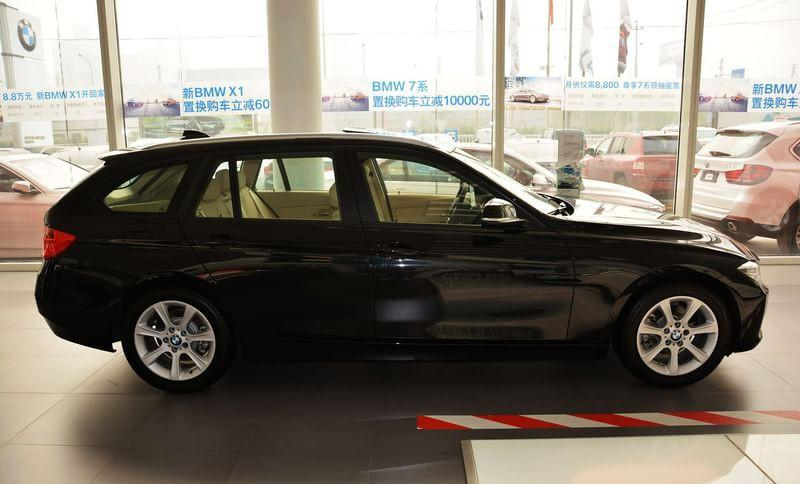Wagon: (34, 128, 771, 395)
